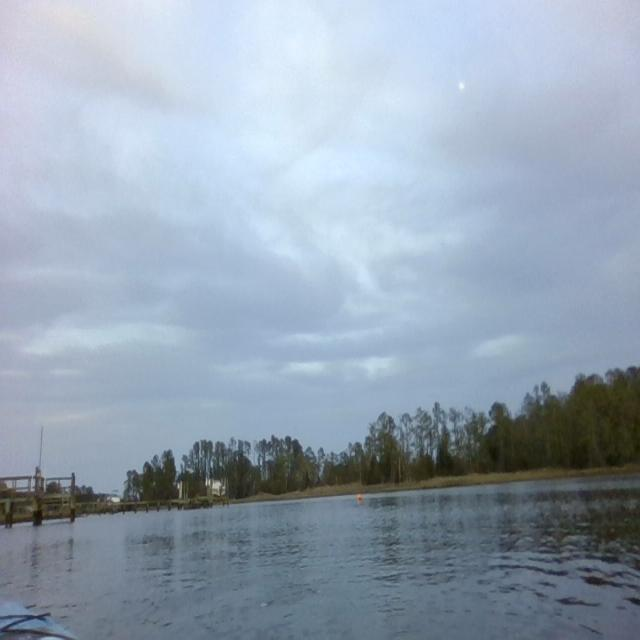Buoy: (356, 490, 363, 503)
